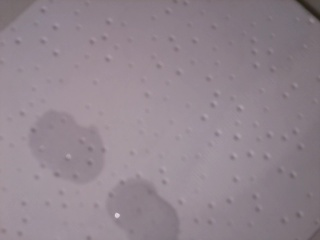Water_detected: (32, 126, 87, 175), (122, 188, 166, 237)
